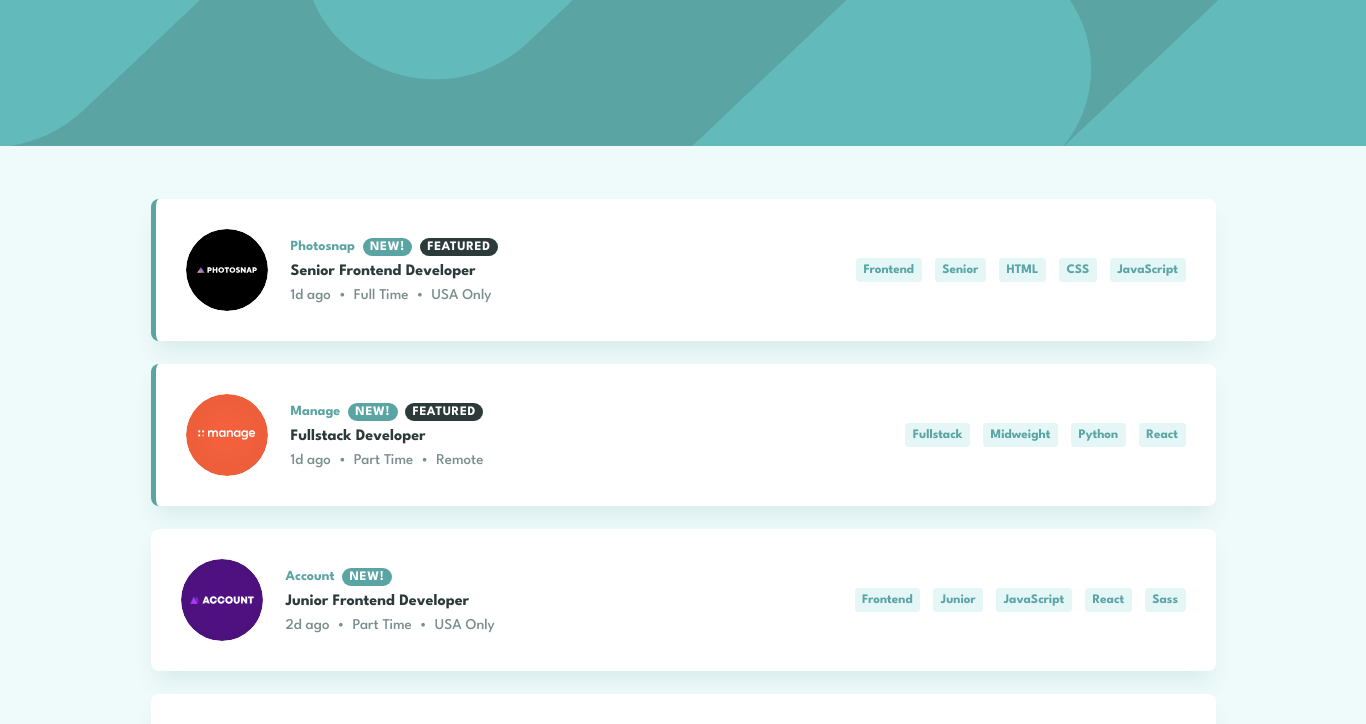
App — filter integration › combining two tags applies AND logic and shows fewer results
Click the button with aria-label "filter by frontend": (889, 270) [856,258,922,282]
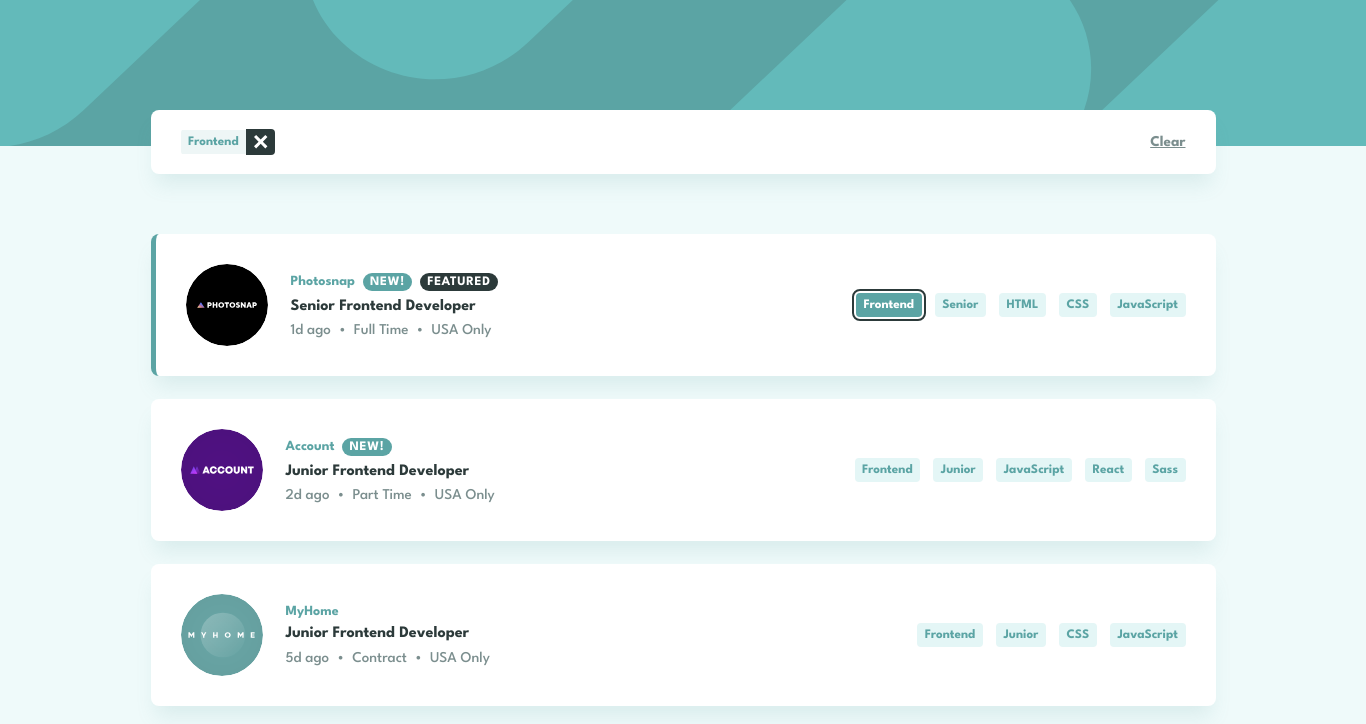
Click the button with aria-label "filter by junior": (958, 470) [933,458,983,482]
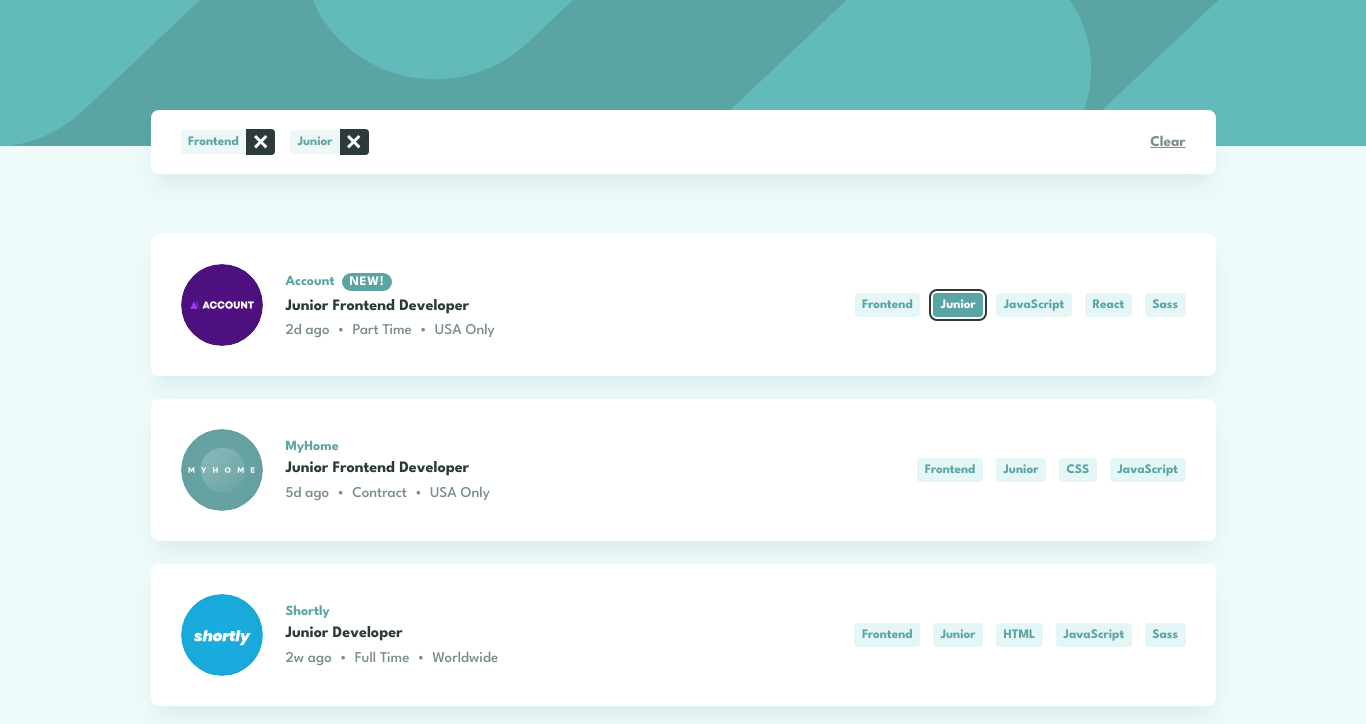
Check: the text "Frontend" is shown, box [180,130,246,154]
Check: the text "Junior" is shown, box [290,130,340,154]
